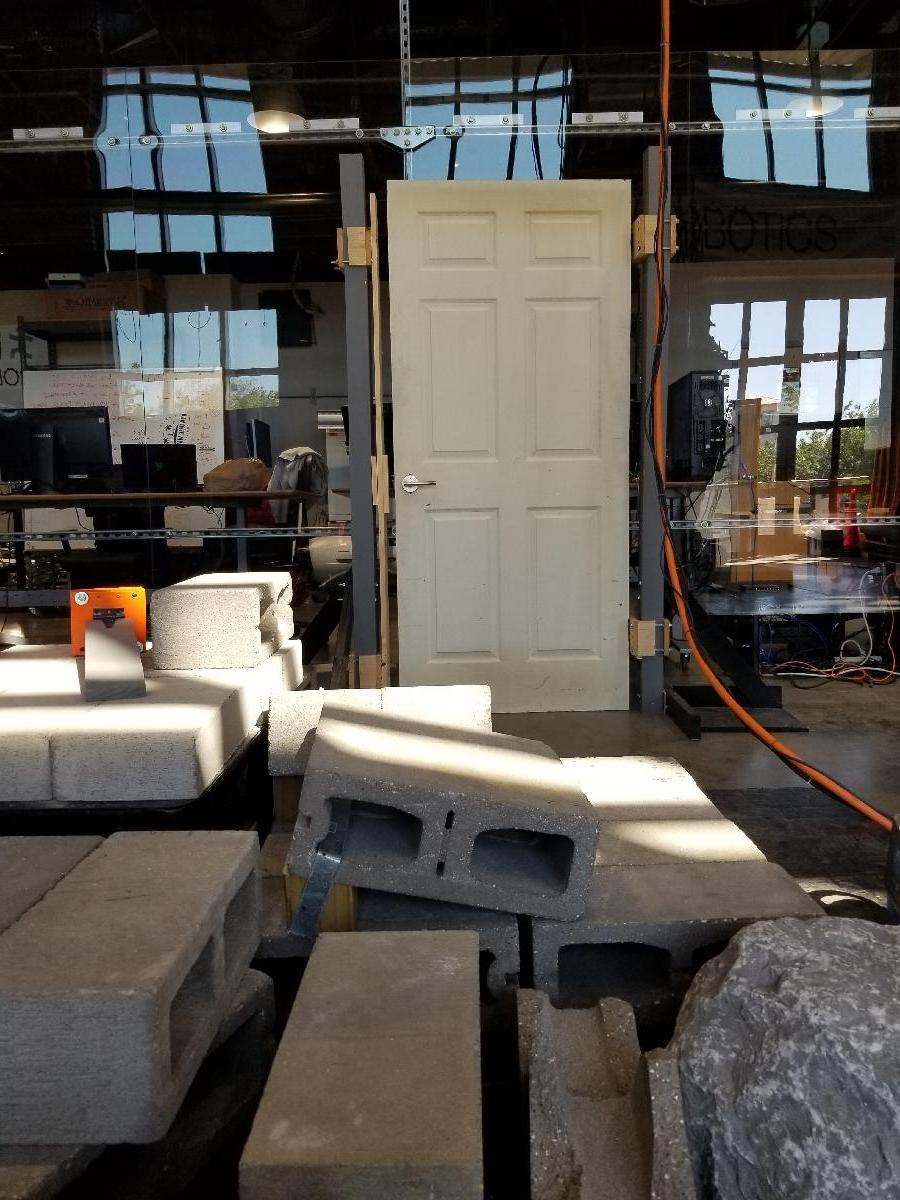door: (386, 178, 634, 709)
handle: (400, 472, 440, 496)
